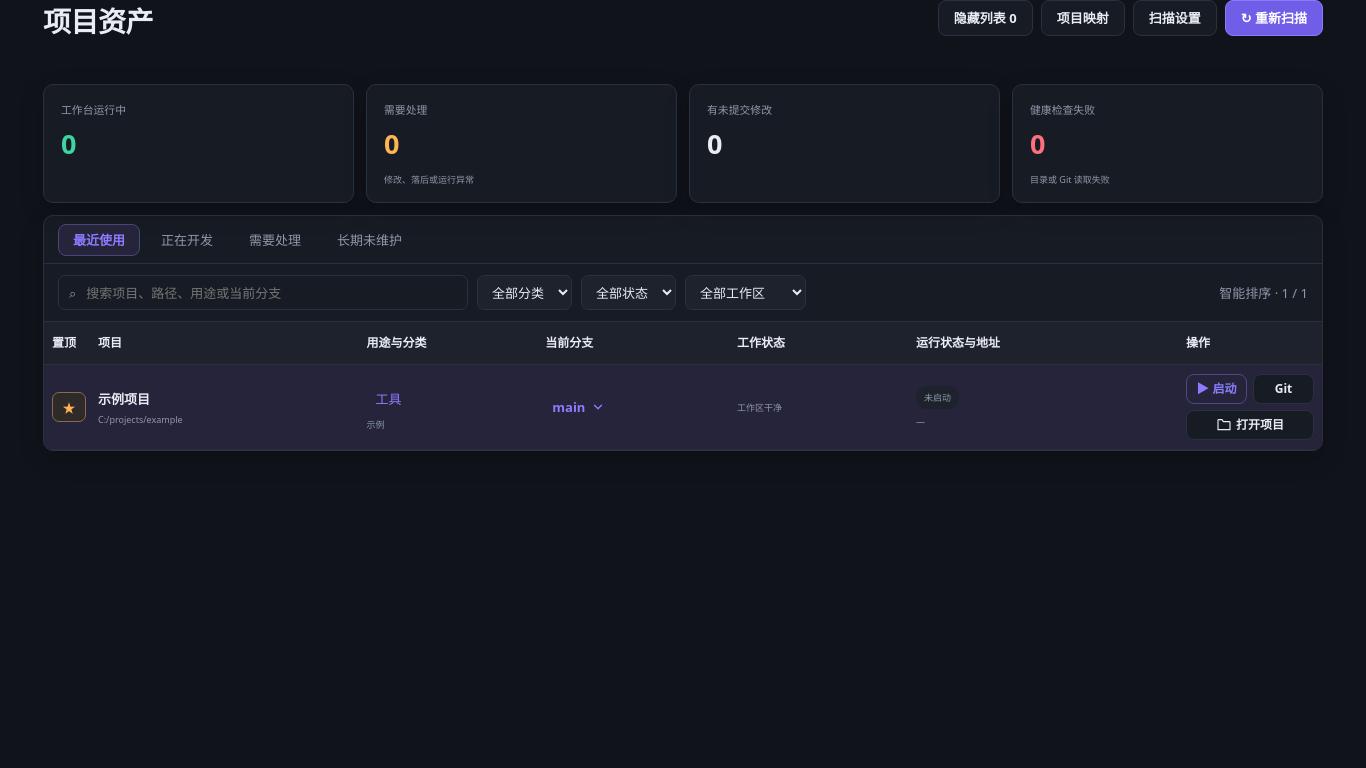
Test: 项目资产列表操作 › 点击分支只读取本地状态，选择后复核并切换、刷新列表
Click the button with class "branch-picker-trigger" at (579, 407), box [545, 390, 612, 424]
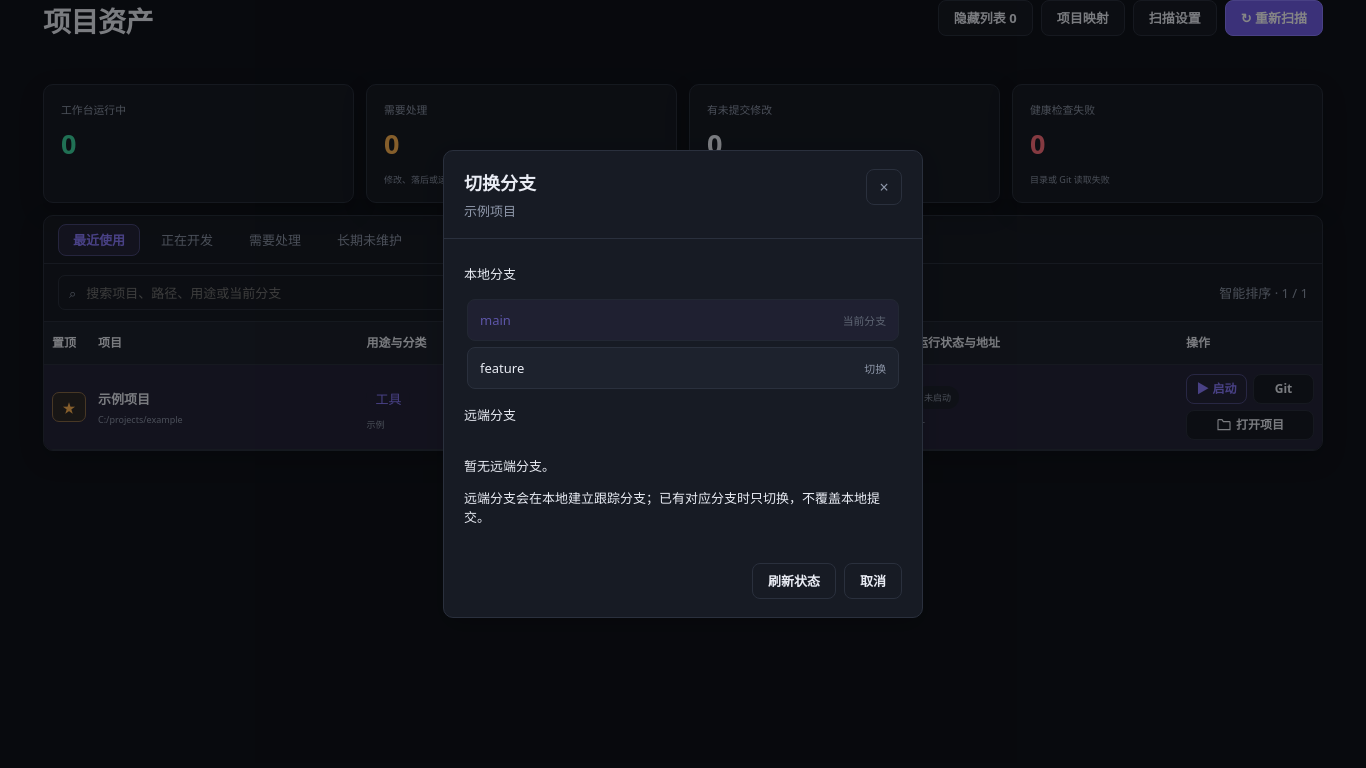
Expected: the dialog shows "当前分支", [467, 299, 899, 341]
Click the button with class "branch-option" showing "feature 切换" at (502, 368), box [467, 347, 899, 389]
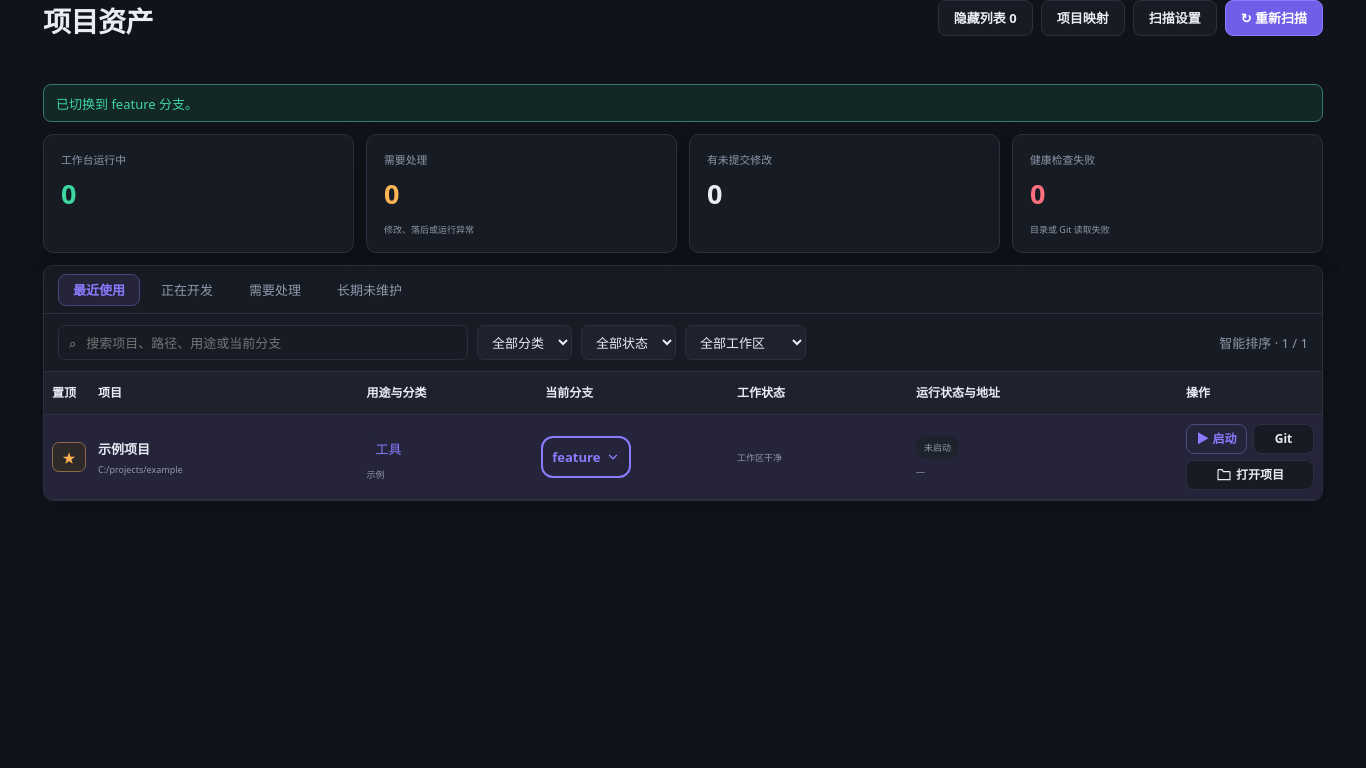
Expected: the button with class "branch-picker-trigger" reads "feature", [545, 440, 627, 474]
